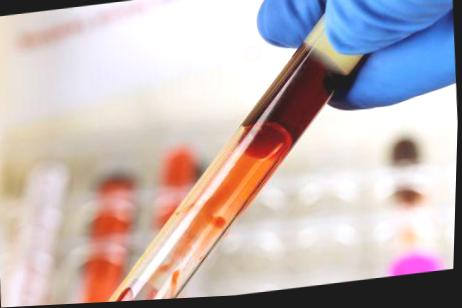Fire: (107, 49, 341, 303)
